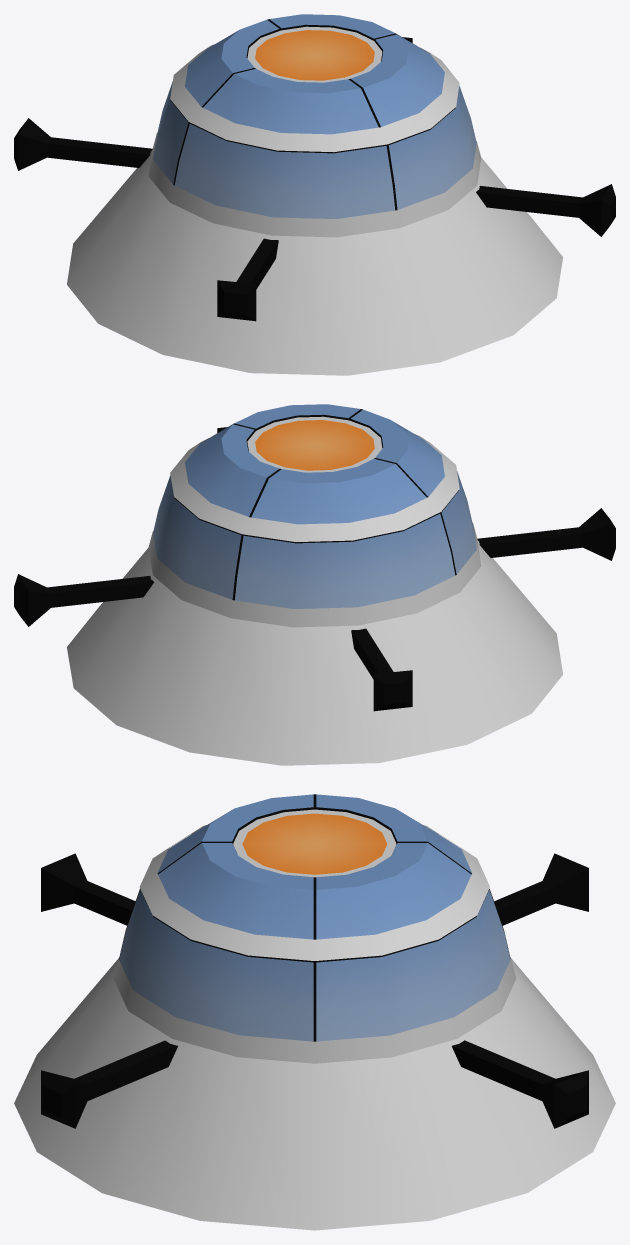
Rendered from Rooms_Paradise_SciFi_Drone_Art.fbx.
The picture shows the model from 3 angles, top to bottom: view 1: azimuth 30°, elevation 25°; view 2: azimuth 150°, elevation 25°; view 3: azimuth 270°, elevation 25°; orthographic projection. The views are drawn at different scales.
Visible parts, largest first — view 1: Rooms_Paradise_SciFi_Drone_Art; view 2: Rooms_Paradise_SciFi_Drone_Art; view 3: Rooms_Paradise_SciFi_Drone_Art.
Boxes of the visible parts, x1=… form: Rooms_Paradise_SciFi_Drone_Art: x1=14, y1=14, x2=615, y2=375; Rooms_Paradise_SciFi_Drone_Art: x1=14, y1=404, x2=615, y2=765; Rooms_Paradise_SciFi_Drone_Art: x1=14, y1=794, x2=615, y2=1230.
Size of the model in its own units: 177 by 84.61 by 177.
